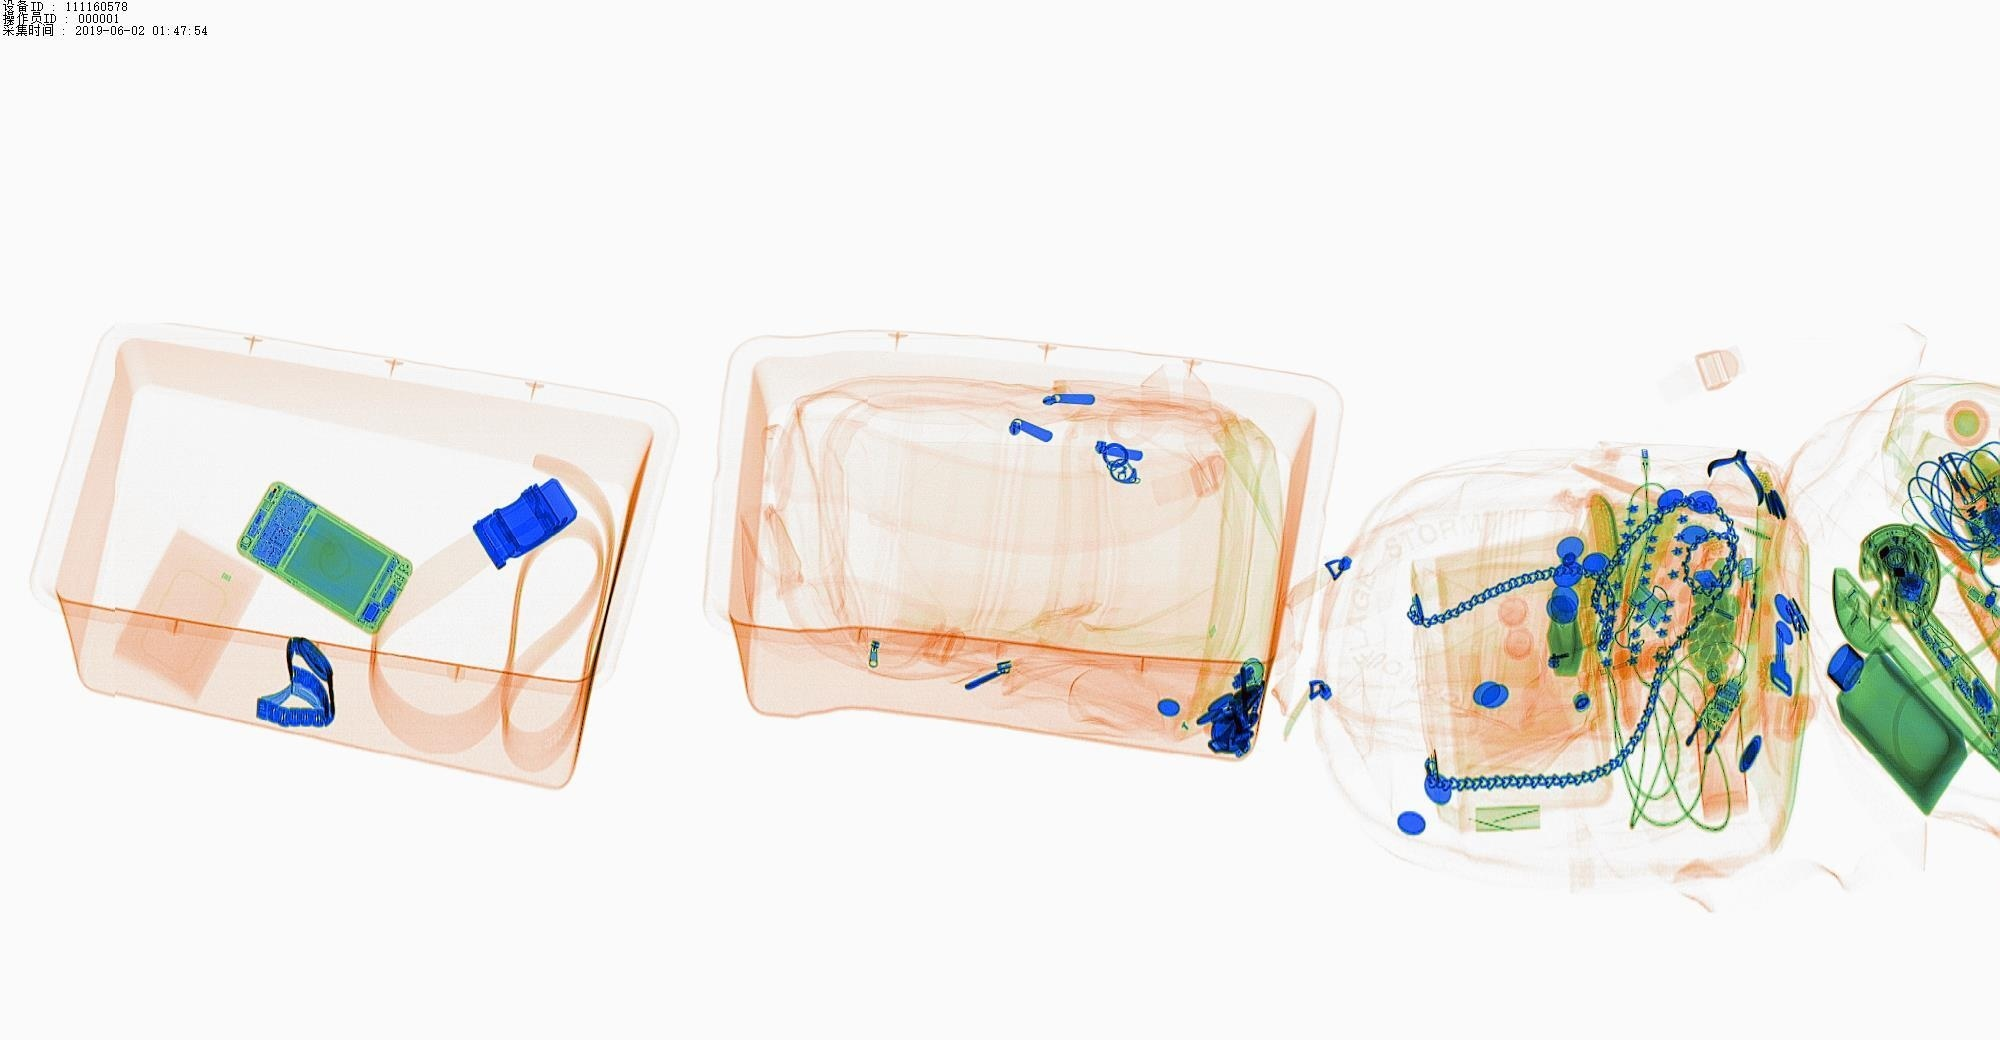NonmetallicFire: (1712, 541, 1786, 673)
